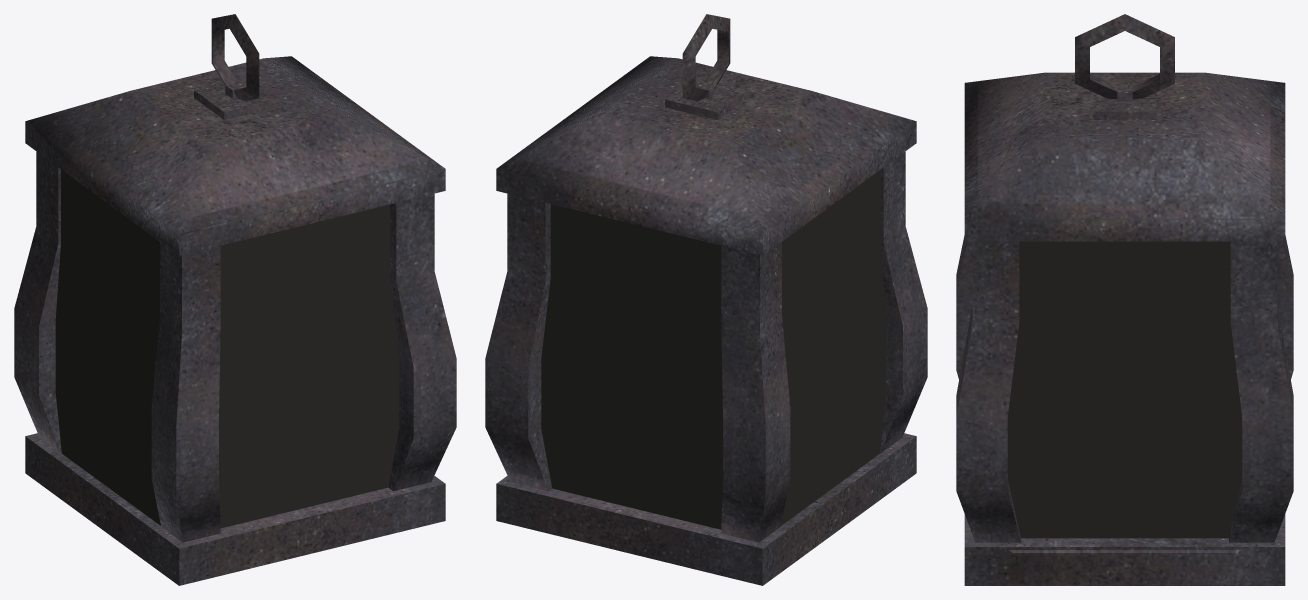
The model's file is candle-lamp-low-poly.fbx.
The picture shows the model from 3 angles, left to right: view 1: azimuth 30°, elevation 25°; view 2: azimuth 150°, elevation 25°; view 3: azimuth 270°, elevation 25°; orthographic projection. The views are drawn at different scales.
Parts seen in each view (by area): view 1: base, glass; view 2: base, glass; view 3: base, glass.
Part boxes in pixels (box(x1,y1,x2,y2)): base: box(14, 14, 456, 585); glass: box(55, 169, 399, 528); base: box(485, 14, 927, 585); glass: box(541, 169, 886, 529); base: box(956, 14, 1293, 585); glass: box(1007, 241, 1242, 538).
Bounding box in the file's own units: 210 × 347 × 210.
3 materials, 3 textured.
